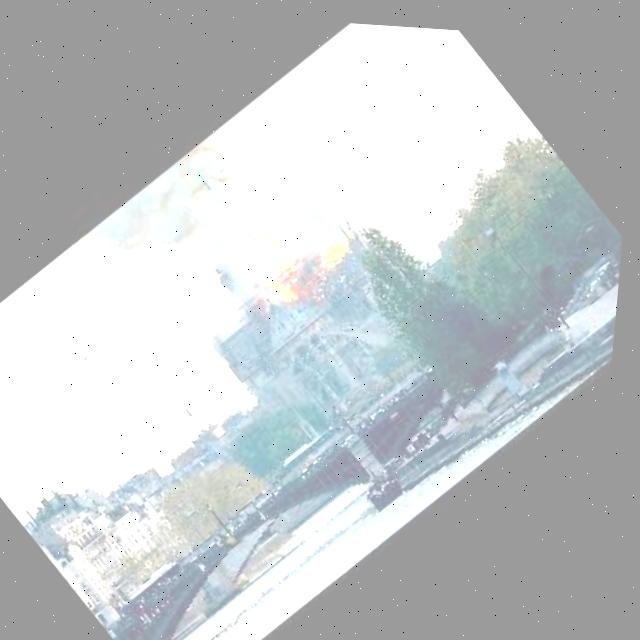Fire: (204, 155, 379, 327)
Smoke: (78, 5, 508, 388)
